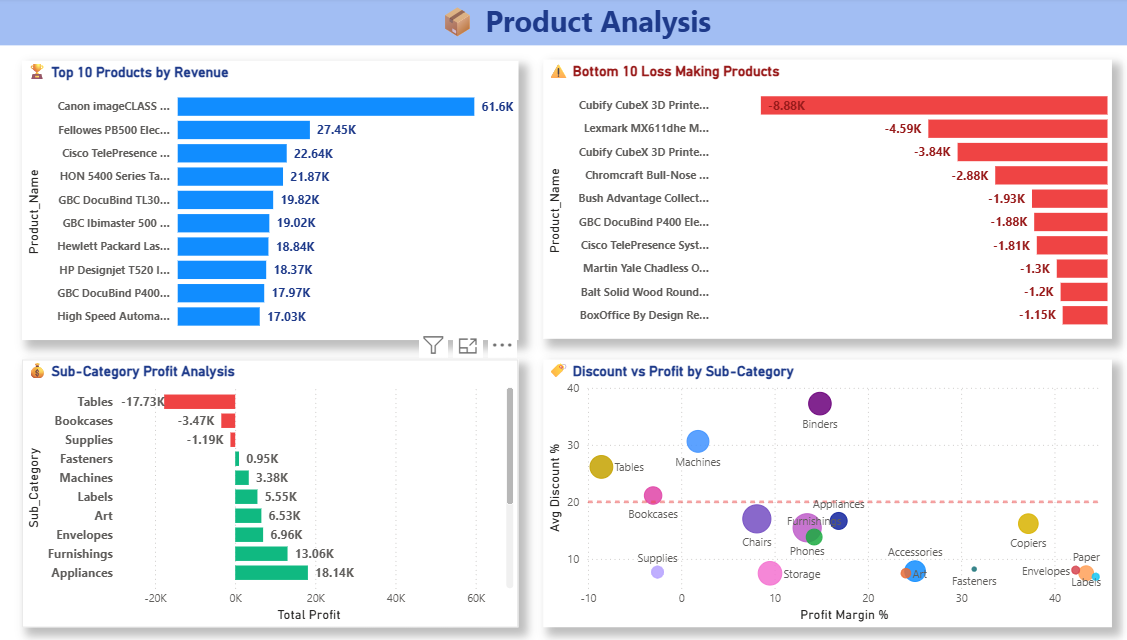

Layout of this report page (visuals, bound fields, positions):
{"tool":"powerbi","page":{"name":"Product Analysis","canvas":[1280,720],"ordinal":3},"visuals":[{"type":"clusteredBarChart","title":"🏆 Top 10 Products by Revenue","fields":{"Category":["superstore_clean.Product_Name"],"Y":["Sum(superstore_clean.Sales)"]},"box":[27.4,70.6,550,309.6],"z":0},{"type":"clusteredBarChart","title":"⚠️ Bottom 10 Loss Making Products","fields":{"Category":["superstore_clean.Product_Name"],"Y":["superstore_clean.Total Profit"]},"box":[606.2,69.1,630.6,309.6],"z":1},{"type":"clusteredBarChart","title":"💰 Sub-Category Profit Analysis","fields":{"Category":["superstore_clean.Sub_Category"],"Y":["superstore_clean.Total Profit"]},"box":[27.4,401.7,550,296.6],"z":2},{"type":"scatterChart","title":"🏷️ Discount vs Profit by Sub-Category","fields":{"X":["superstore_clean.Profit Margin %"],"Y":["superstore_clean.Avg Discount %"],"Category":["superstore_clean.Sub_Category"],"Size":["superstore_clean.Total Sales"]},"box":[606.2,401.7,630.6,296.6],"z":3},{"type":"textbox","box":[0,0,1280,53.3],"z":4}]}

Visuals, with their boxes in screenshot pixels (x1, y1, x2, y2), scaled from the page's 1280x720 canvas onto the 1127x640 screenshot:
"🏆 Top 10 Products by Revenue" clusteredBarChart: 24,63,508,338
"⚠️ Bottom 10 Loss Making Products" clusteredBarChart: 534,61,1089,337
"💰 Sub-Category Profit Analysis" clusteredBarChart: 24,357,508,621
"🏷️ Discount vs Profit by Sub-Category" scatterChart: 534,357,1089,621
textbox: 0,0,1126,47
